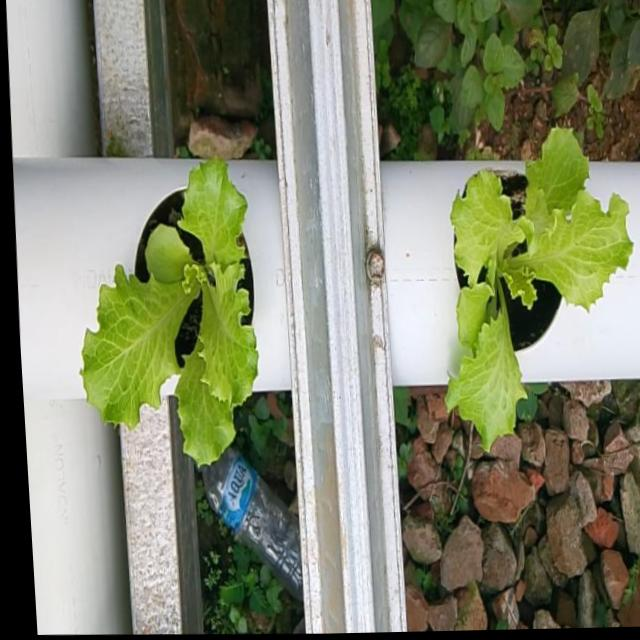Baby: (445, 126, 634, 450), (80, 155, 259, 465)
